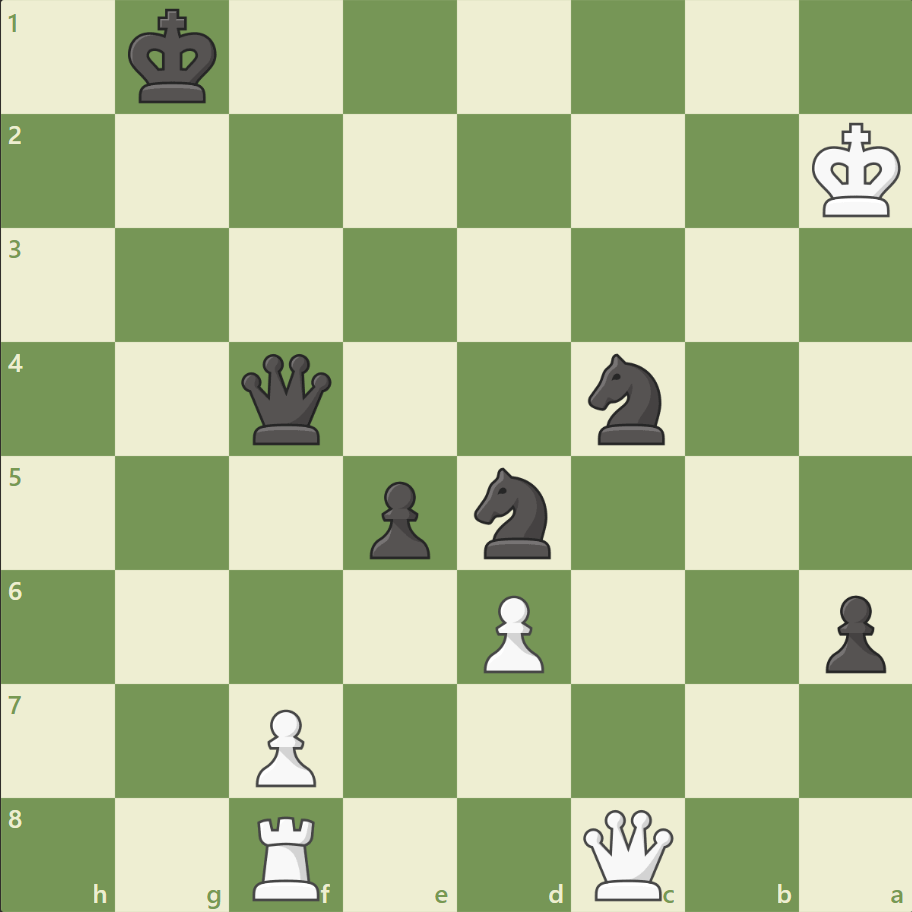K: (806, 117, 906, 225)
P: (247, 700, 322, 791), (474, 586, 549, 677)
Q: (578, 804, 677, 903)
R: (246, 806, 329, 904)
k: (124, 4, 224, 112)
n: (465, 461, 562, 564), (579, 348, 676, 450)
p: (815, 586, 889, 677), (361, 473, 435, 564)
q: (237, 349, 336, 449)
